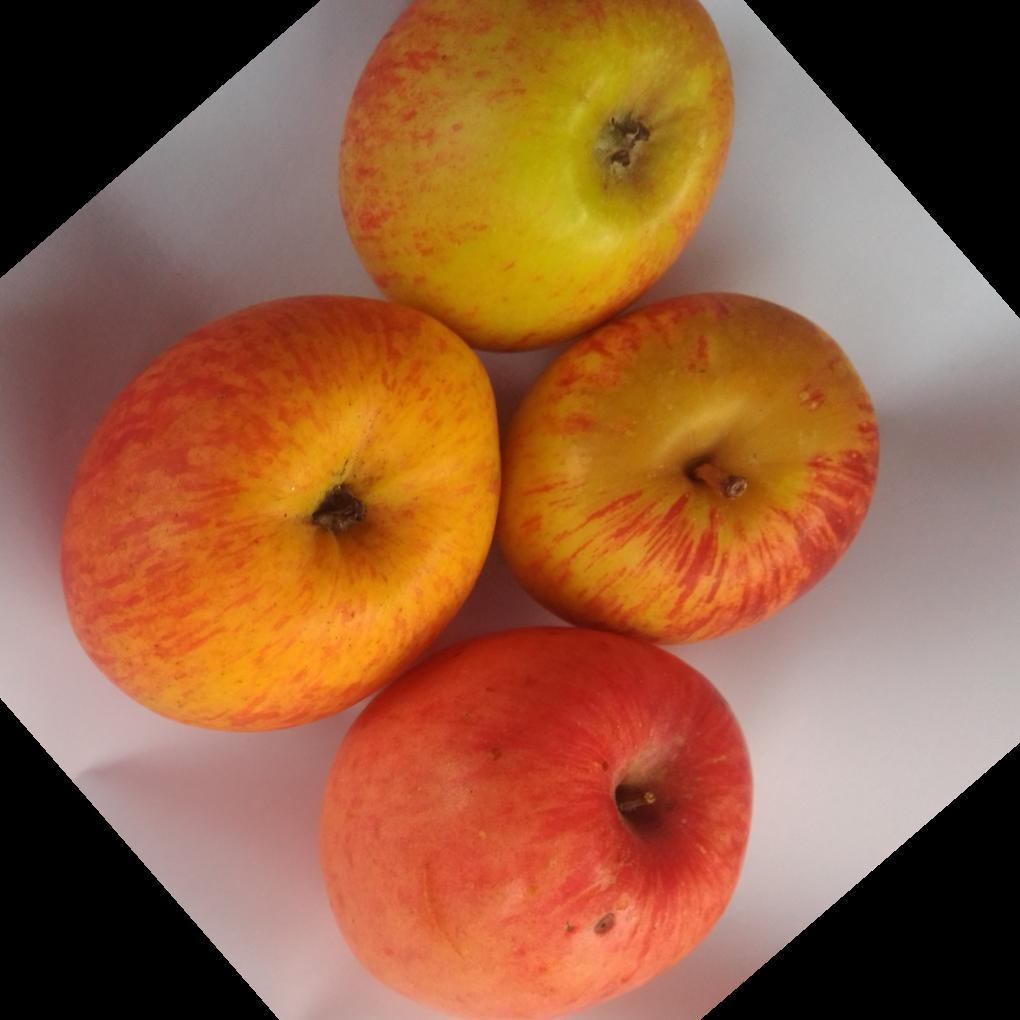FreshGuava: (61, 0, 877, 1020)
